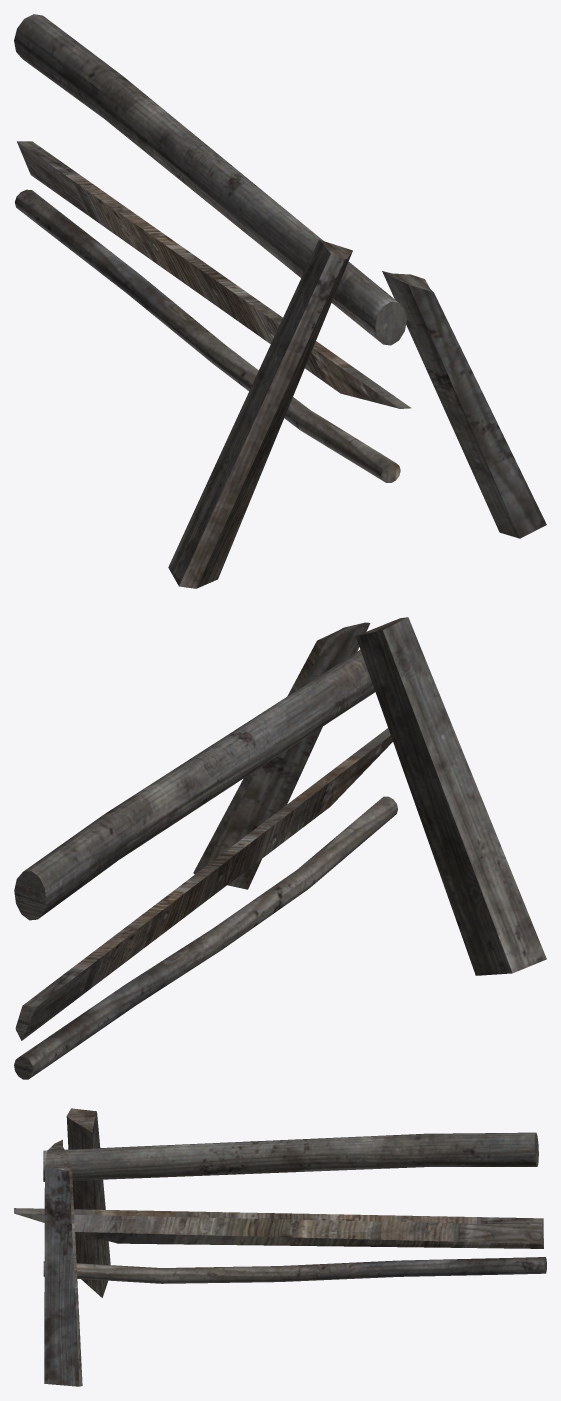
File: Fence_16a_2.fbx
3 renders of one model, top to bottom at view 1: azimuth 30°, elevation 25°; view 2: azimuth 150°, elevation 25°; view 3: azimuth 270°, elevation 25°, orthographic. The views are drawn at different scales.
Parts seen in each view (by area): view 1: SM_Fence_16a_DM_1.002; view 2: SM_Fence_16a_DM_1.002; view 3: SM_Fence_16a_DM_1.002.
Part boxes in pixels (x1,y1,x2,y2): SM_Fence_16a_DM_1.002: [14, 14, 546, 588]; SM_Fence_16a_DM_1.002: [14, 617, 546, 1079]; SM_Fence_16a_DM_1.002: [14, 1108, 546, 1386].
Bounding box in the file's own units: 5295 × 4569 × 10016.
